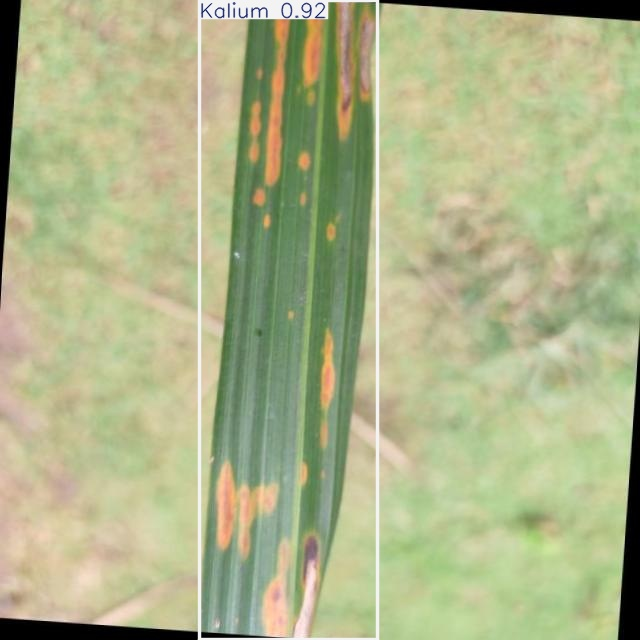Kalium: (200, 1, 378, 639)
